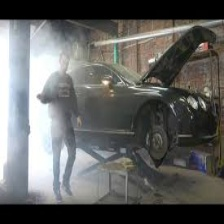smoke: (3, 48, 46, 142)
